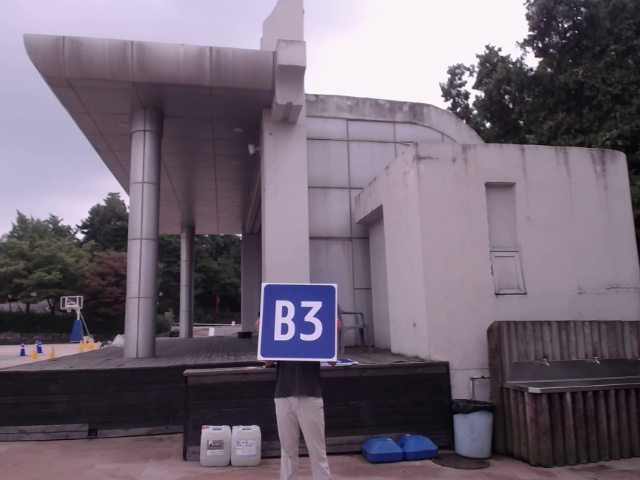delivery_b3: (262, 284, 337, 359)
